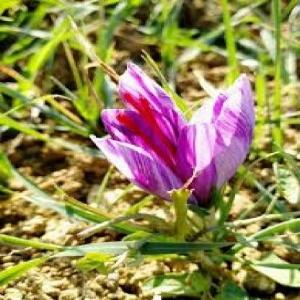Saffron: (94, 60, 256, 215)
